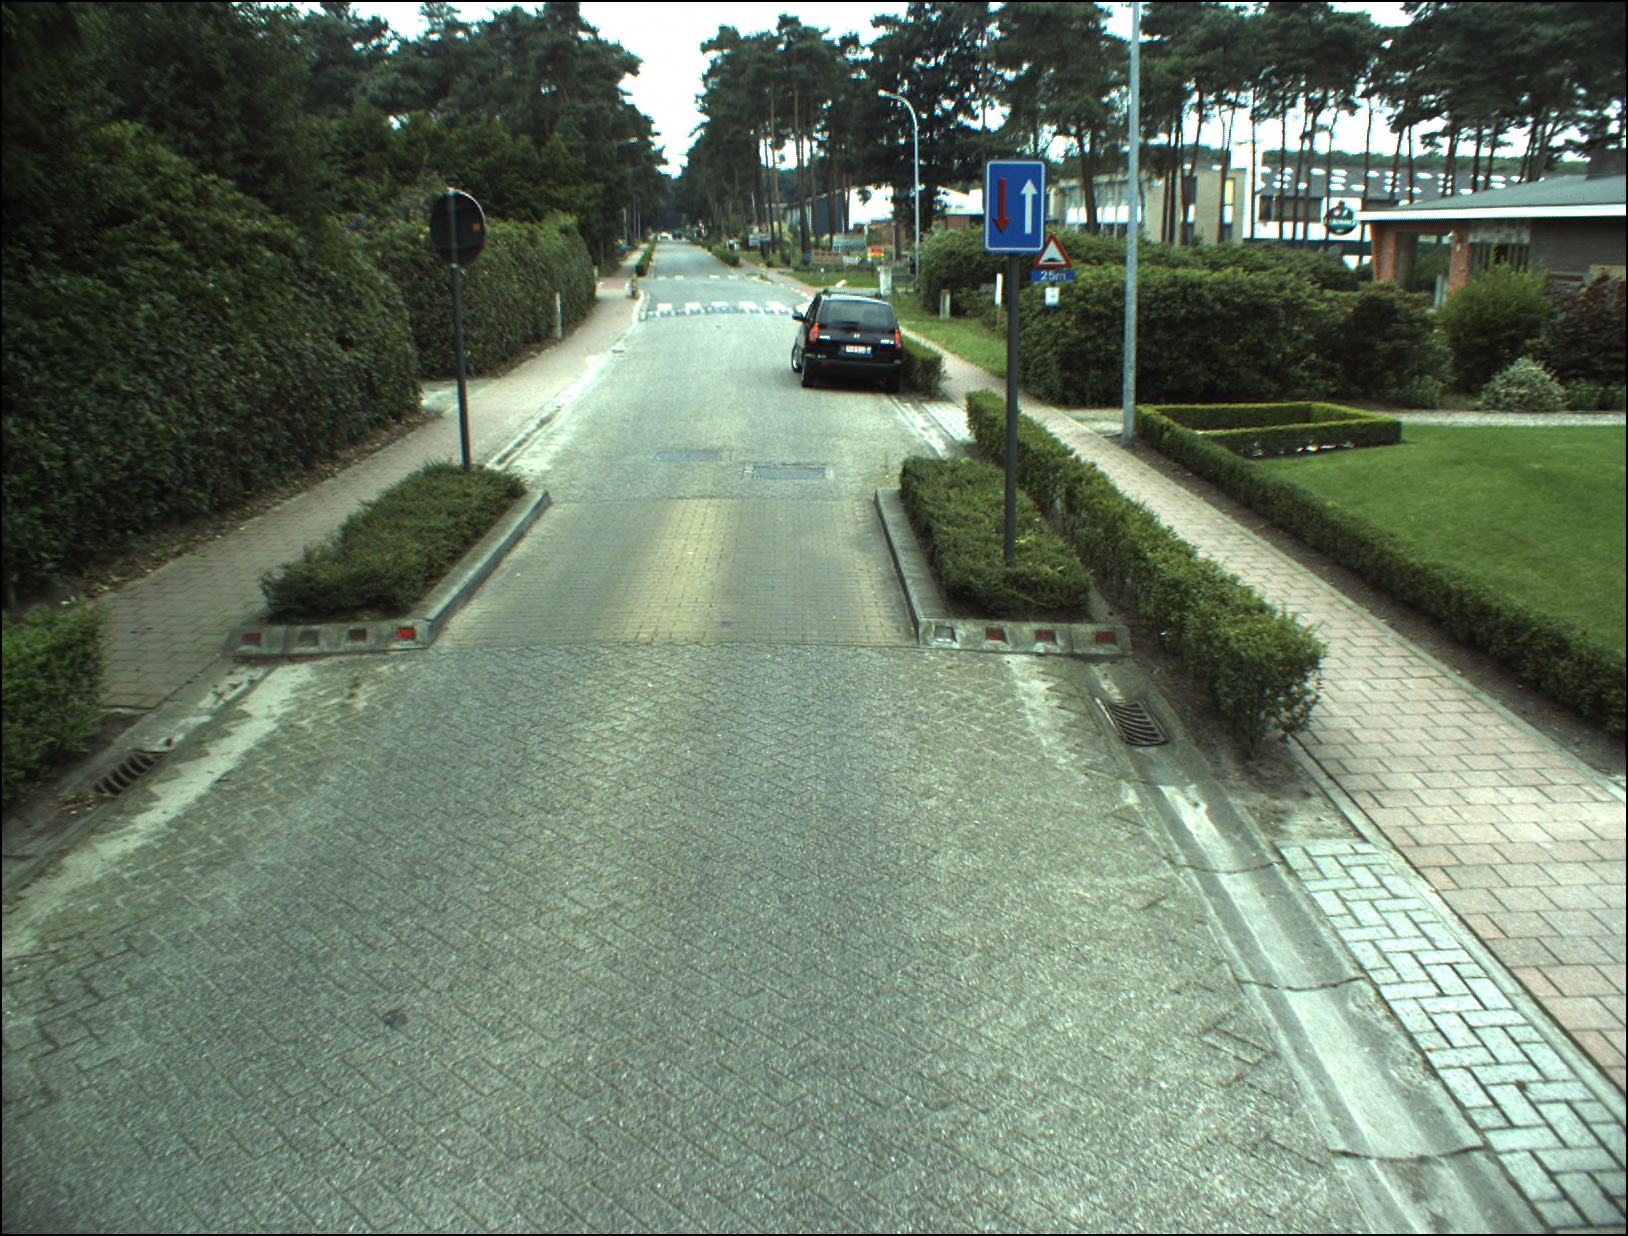roadnarrow1: (981, 158, 1042, 249)
speedbump: (1037, 238, 1068, 267)
